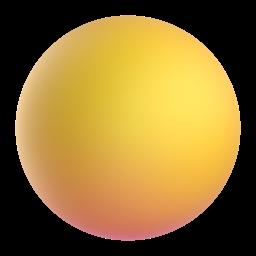yellow_circle: (9, 9, 247, 246)
